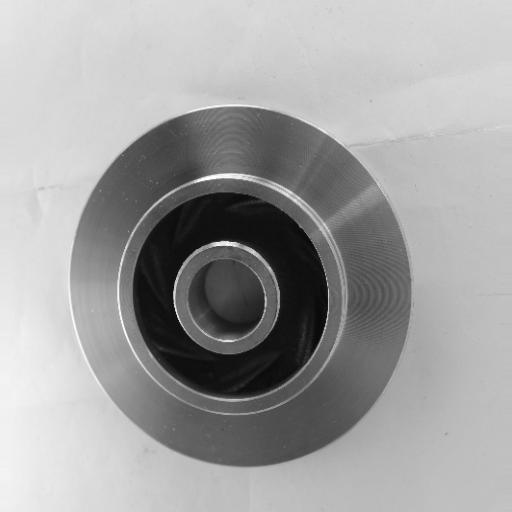polished_casting: (63, 101, 415, 469)
